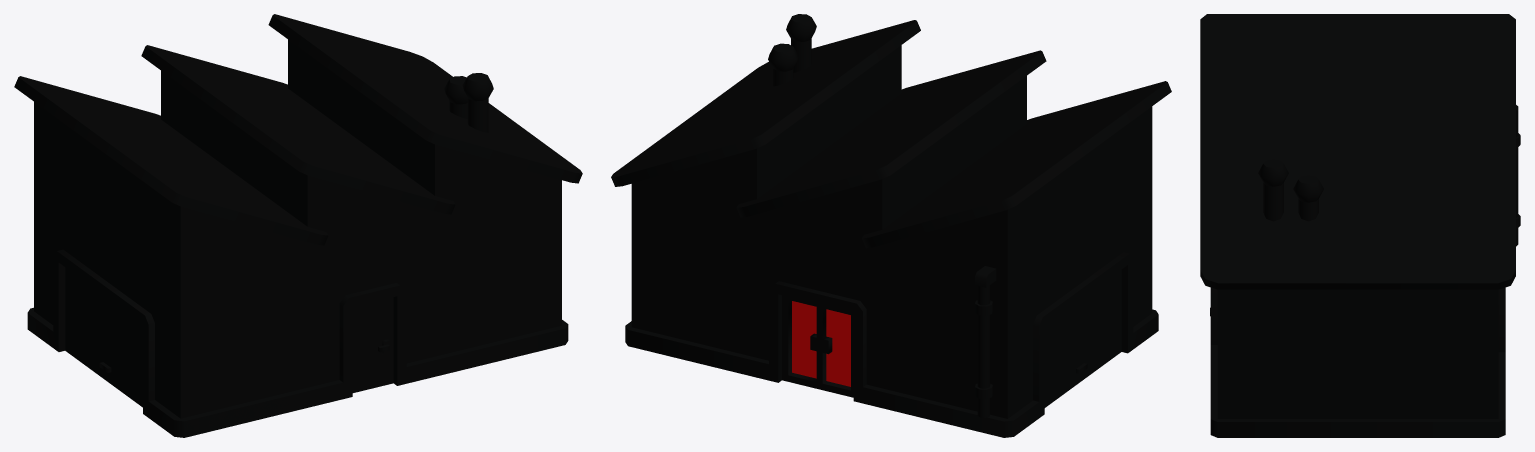
File: building-k.glb
3 renders of one model, left to right at view 1: azimuth 30°, elevation 25°; view 2: azimuth 150°, elevation 25°; view 3: azimuth 270°, elevation 25°, orthographic. The views are drawn at different scales.
Visible parts, largest first — view 1: building-k; view 2: building-k; view 3: building-k.
Part boxes in pixels (left/top/right/bottom): building-k: left=14, top=14, right=582, bottom=437; building-k: left=611, top=14, right=1171, bottom=437; building-k: left=1200, top=14, right=1520, bottom=437.
Bounding box in the file's own units: 1.3 × 0.7727 × 0.9133.
Materials: 1 (1 with a texture image).
